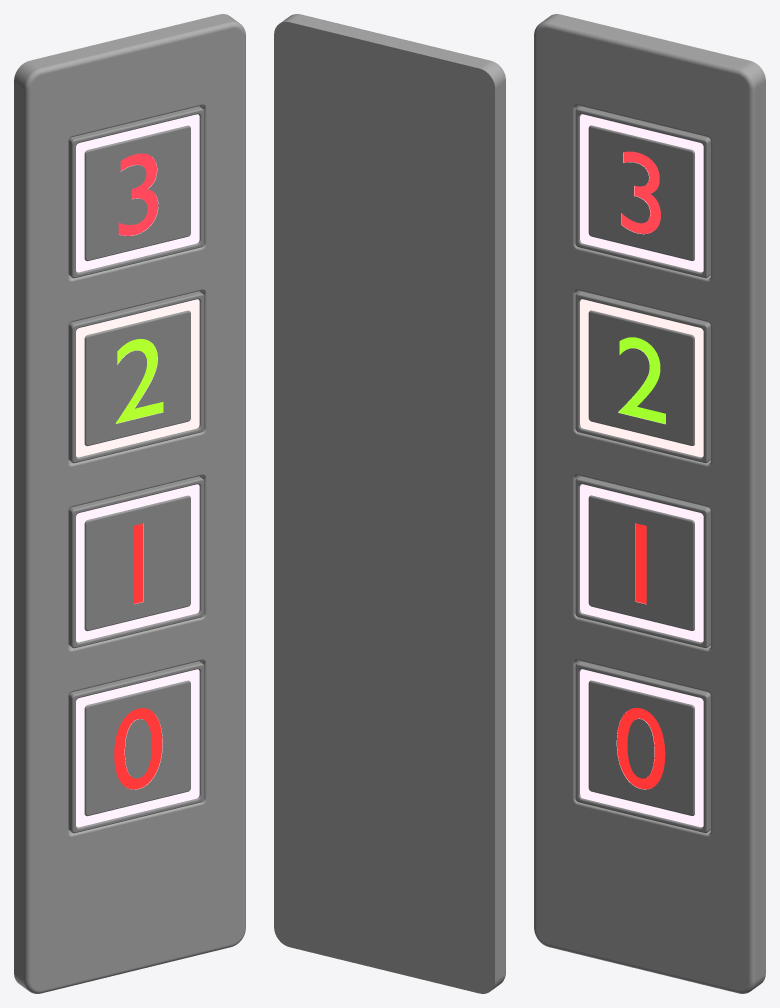
3 renders of one model, left to right at view 1: azimuth 30°, elevation 25°; view 2: azimuth 150°, elevation 25°; view 3: azimuth 330°, elevation 25°, orthographic.
Visible parts, largest first — view 1: PANEL 1; view 2: PANEL 1; view 3: PANEL 1.
Part boxes in pixels (left/top/right/bottom): PANEL 1: left=14, top=14, right=245, bottom=993; PANEL 1: left=274, top=14, right=505, bottom=993; PANEL 1: left=534, top=14, right=765, bottom=993.
Bounding box in the file's own units: 5 × 20 × 0.5551.
